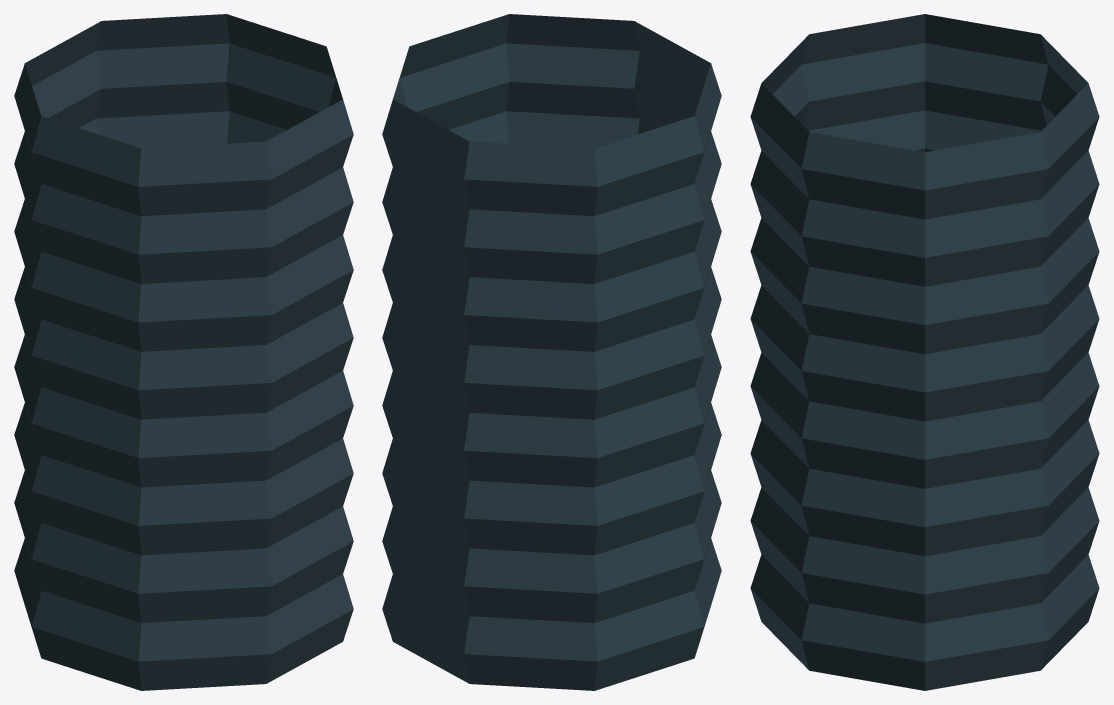
Rendered from scraps6.fbx.
The picture shows the model from 3 angles, left to right: view 1: azimuth 30°, elevation 25°; view 2: azimuth 150°, elevation 25°; view 3: azimuth 270°, elevation 25°; orthographic projection.
Parts seen in each view (by area): view 1: Circle; view 2: Circle; view 3: Circle.
Boxes of the visible parts, bbox=[...] form: Circle: bbox=[14, 14, 353, 690]; Circle: bbox=[382, 14, 721, 690]; Circle: bbox=[750, 14, 1099, 690].
Size of the model in its own units: 213 by 363 by 213.
